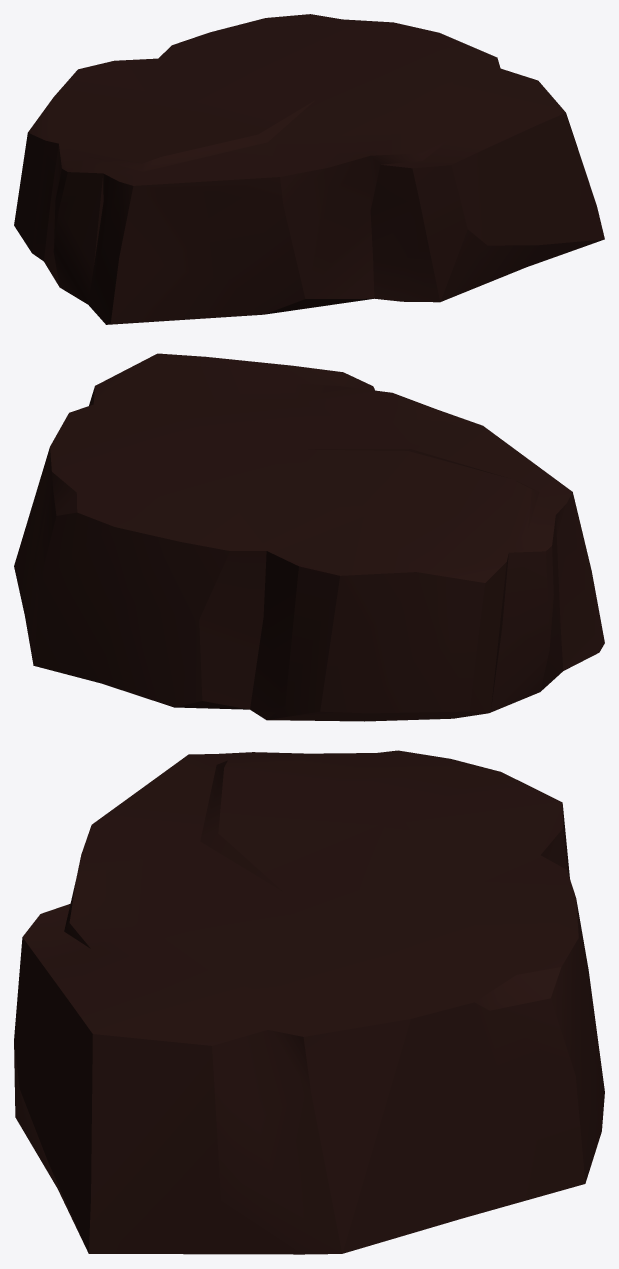
File: SM_Rock_03.fbx
3 views of the same model, one above another, from view 1: azimuth 30°, elevation 25°; view 2: azimuth 150°, elevation 25°; view 3: azimuth 270°, elevation 25° (orthographic). The views are drawn at different scales.
Parts seen in each view (by area): view 1: SM_Rock_03; view 2: SM_Rock_03; view 3: SM_Rock_03.
Part boxes in pixels (x1,y1,x2,y2): SM_Rock_03: [14, 14, 604, 324]; SM_Rock_03: [14, 353, 604, 721]; SM_Rock_03: [14, 750, 604, 1254].
Bounding box in the file's own units: 428 × 127 × 326.
